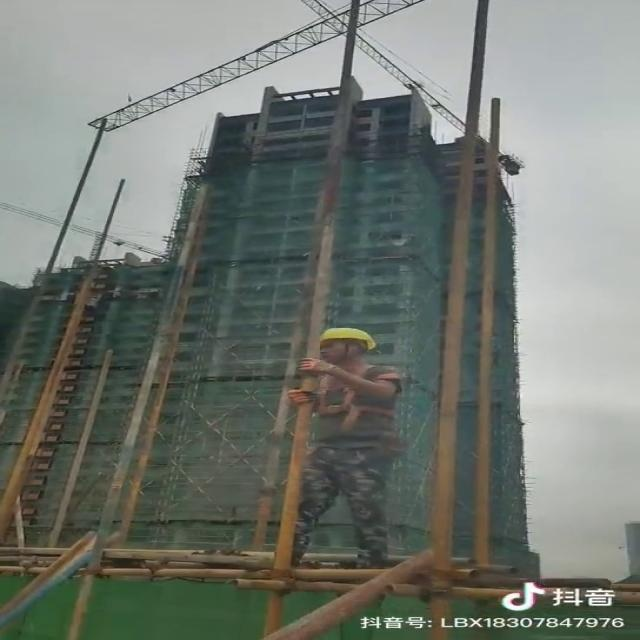Arnes_seguridad: (300, 360, 408, 441)
